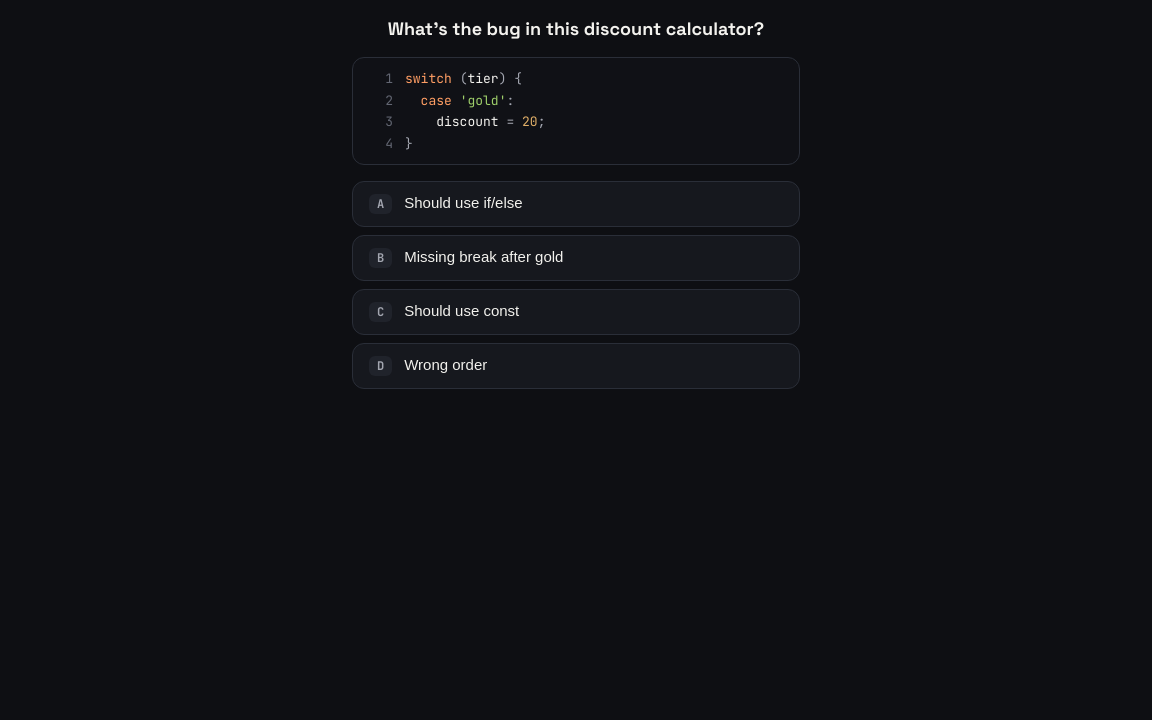
Test case: PuzzleCardShell › click-meaningfulness: defaults to a "Next puzzle" preview label, pinned in a sticky bottom drawer
Click the button "B Missing break after gold": point(484, 257) [352,235,800,281]
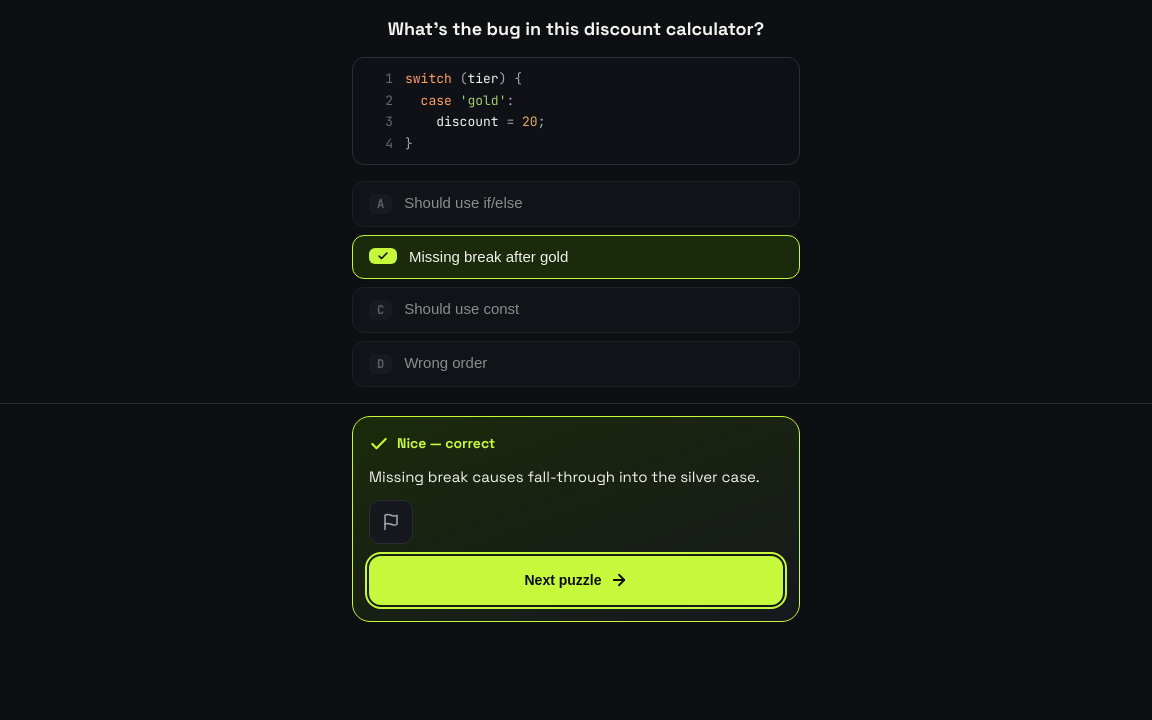
Expected: the element named "Next puzzle" is shown, [0,403,1151,634]
